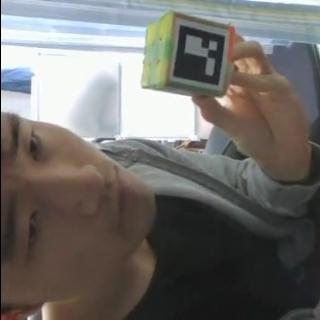armor: (168, 20, 230, 90)
robot: (139, 13, 233, 97)
